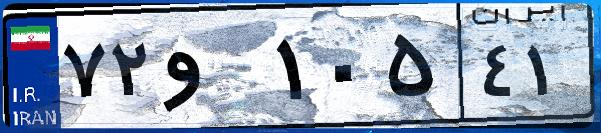0: (330, 28, 385, 110)
1: (270, 28, 330, 110), (525, 38, 570, 115)
2: (110, 28, 158, 98)
4: (475, 38, 525, 113)
5: (385, 28, 445, 110)
7: (57, 26, 110, 100)
و: (158, 20, 270, 120)
